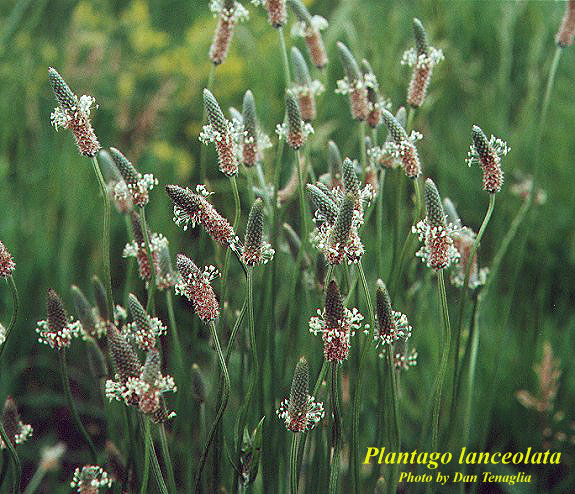buckhorn plantain: (36, 8, 499, 492)
